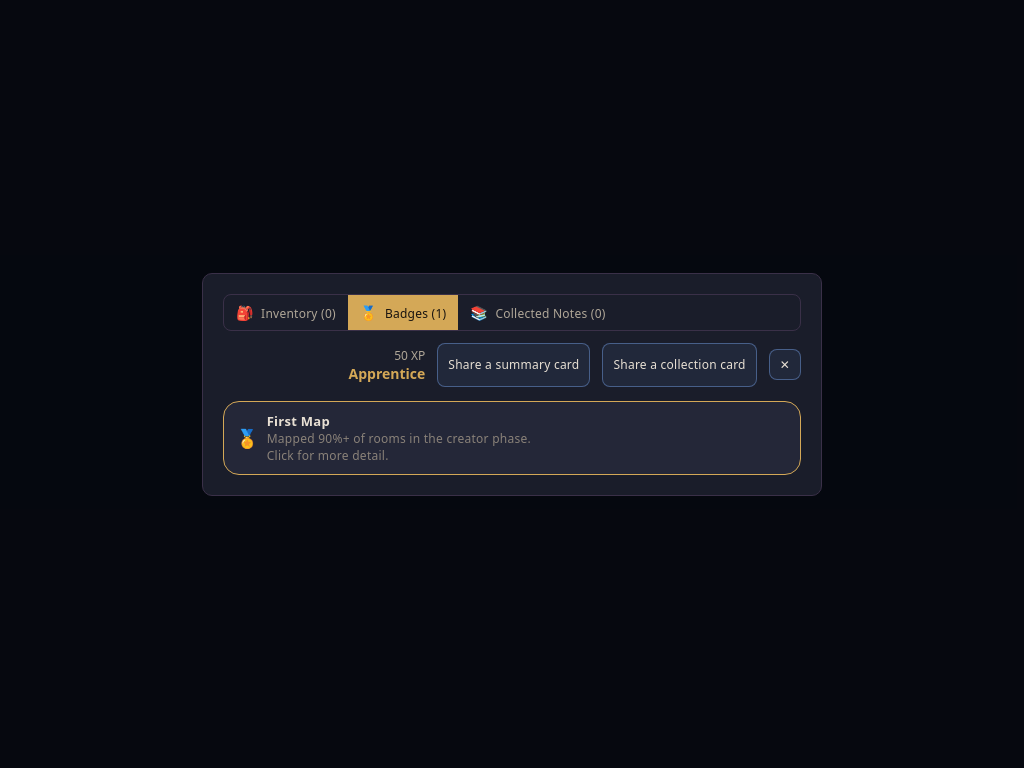
InventoryBadgesPanel › opens extra detail when a badge is clicked
The image size is (1024, 768).
Click the button that starts with "First Map".
click(512, 438)  # box 223,400 -> 801,474
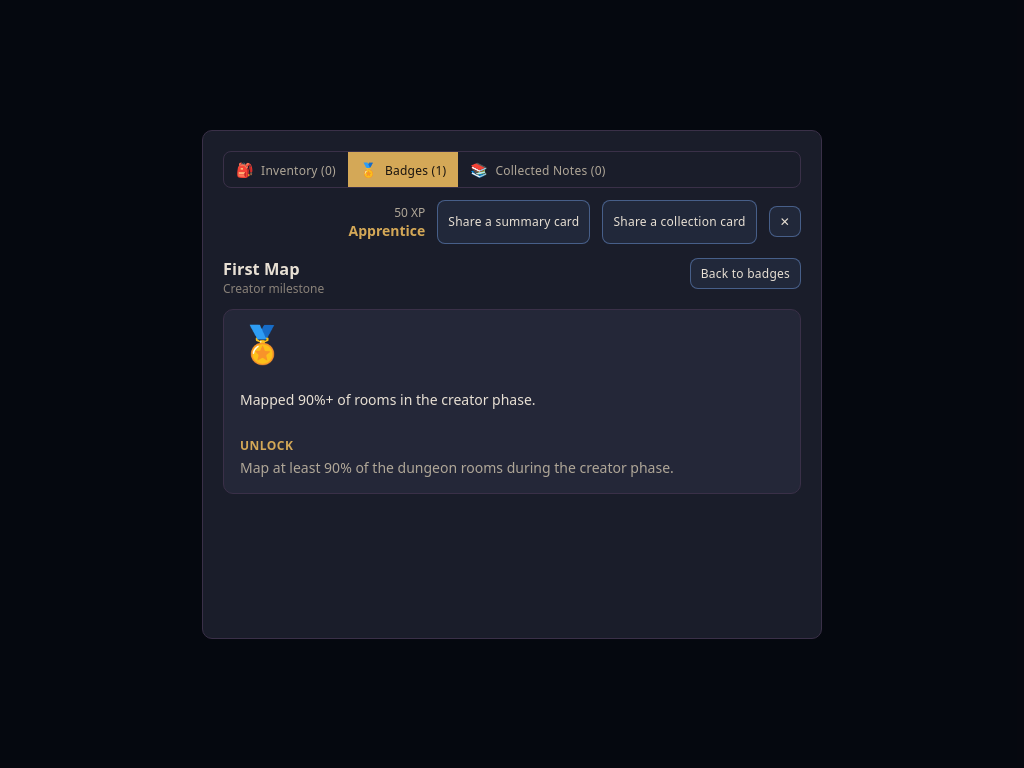
Now the text "Creator milestone" is shown, box 223,280 -> 324,296
Now the text "Map at least 90% of the dungeon rooms during the creator phase." is shown, box 240,458 -> 674,476
Now the button "Back to badges" is shown, box 690,258 -> 801,288
